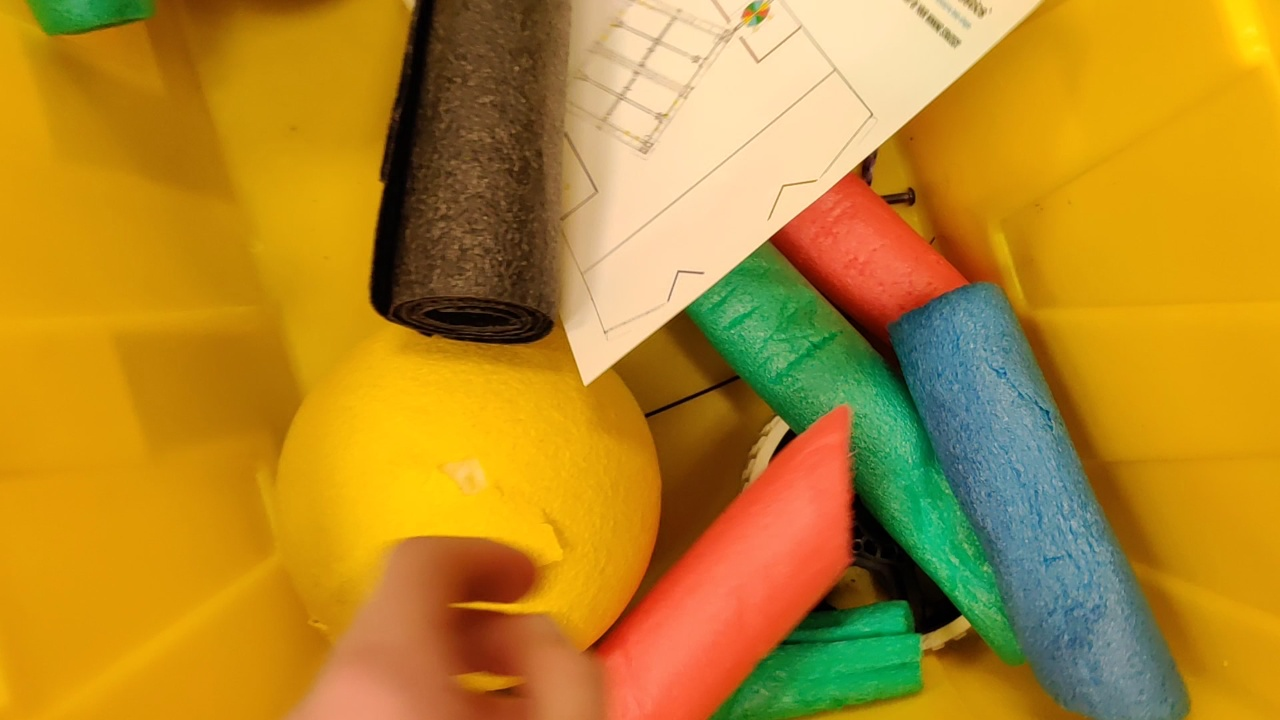Ball: (274, 302, 657, 689)
